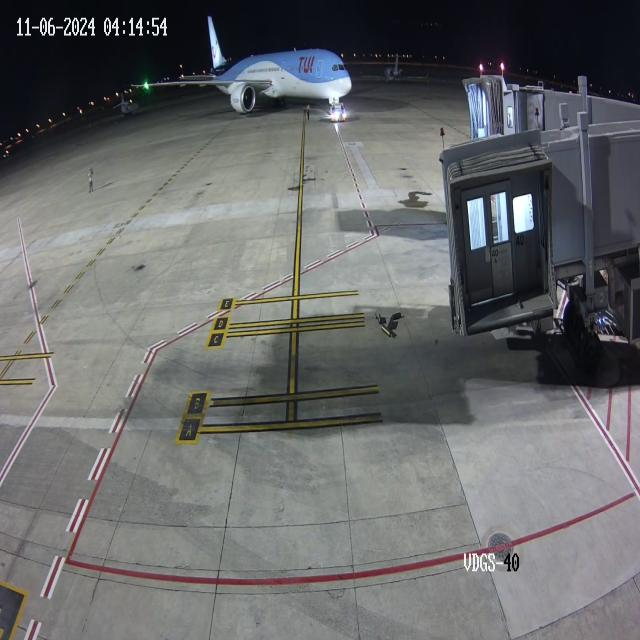bridge: (490, 72, 544, 138)
plane: (113, 1, 359, 125)
window: (330, 59, 348, 72)
